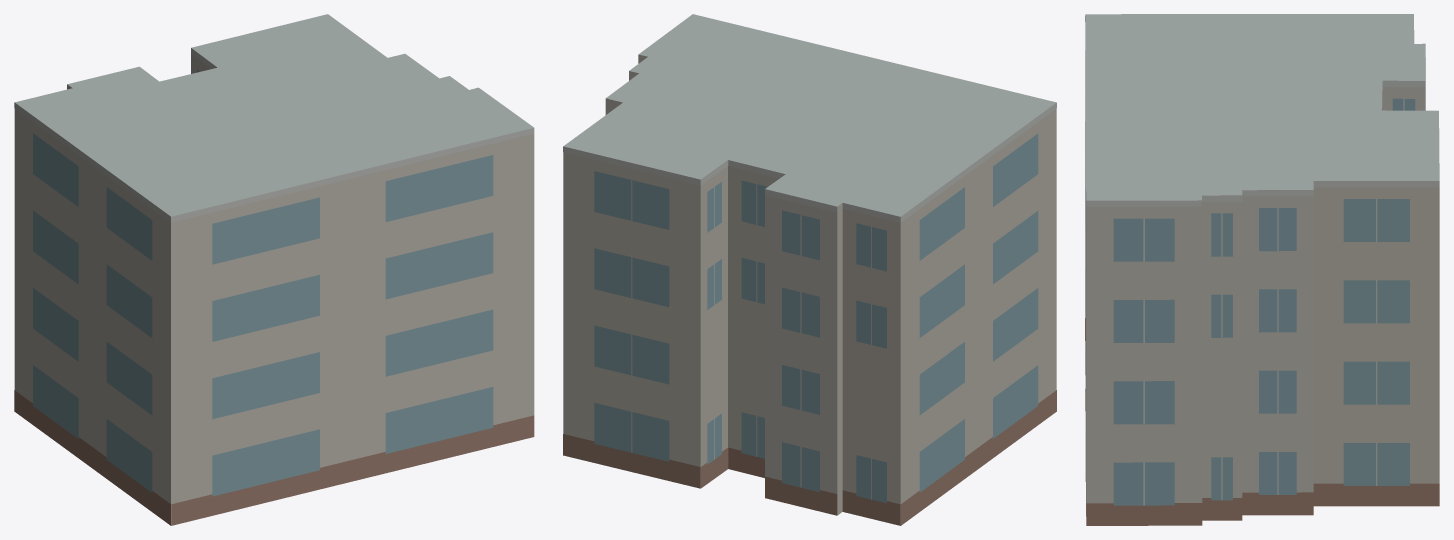
The model's file is survey-upis-32813363.glb.
3 views of the same model, side by side, from view 1: azimuth 30°, elevation 25°; view 2: azimuth 150°, elevation 25°; view 3: azimuth 270°, elevation 25° (orthographic). The views are drawn at different scales.
Visible parts, largest first — view 1: survey-upis-32813363.tmp; view 2: survey-upis-32813363.tmp; view 3: survey-upis-32813363.tmp.
Boxes of the visible parts, bbox=[...] form: survey-upis-32813363.tmp: bbox=[14, 14, 534, 525]; survey-upis-32813363.tmp: bbox=[563, 14, 1056, 525]; survey-upis-32813363.tmp: bbox=[1085, 14, 1439, 525].
Bounding box in the file's own units: 15.59 × 12.65 × 12.51.
